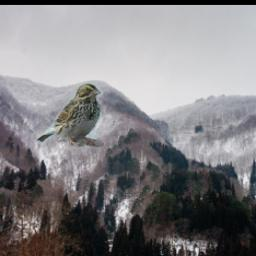Sparrow: (36, 82, 103, 147)
